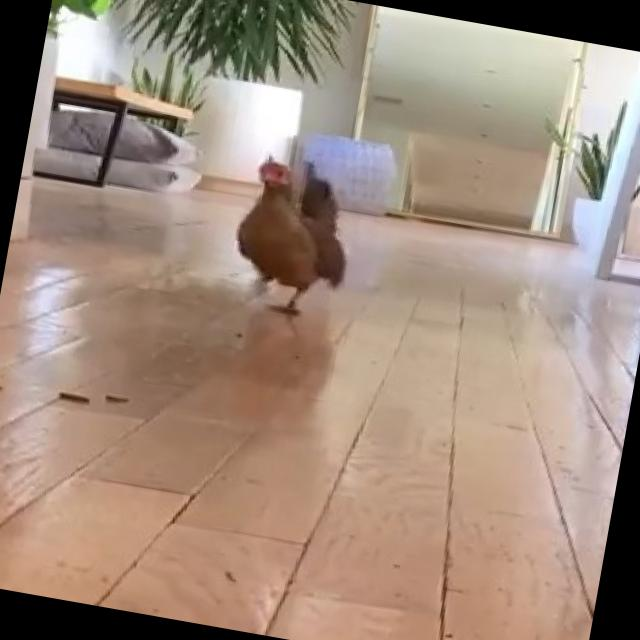running: (214, 144, 372, 331)
